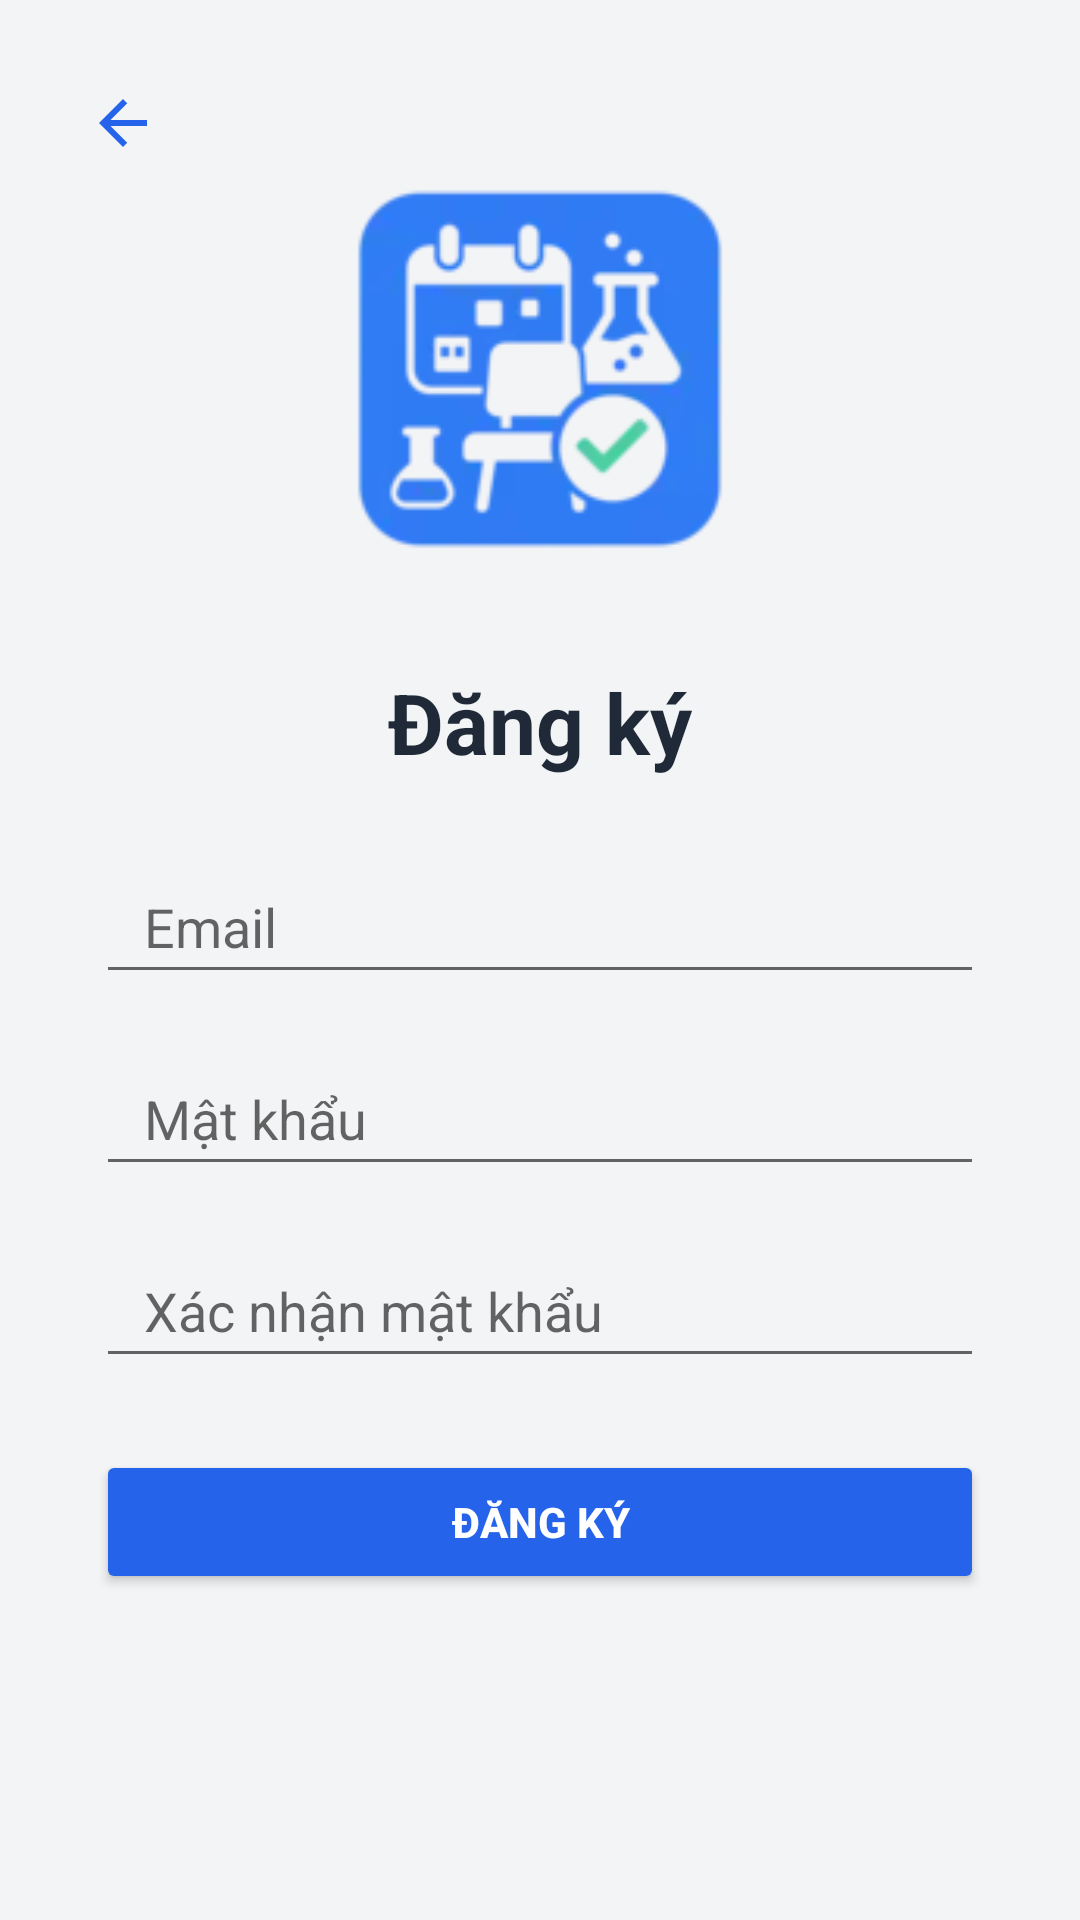

Icon click points for this 1080*1920 phone screenshot, format [x,y]:
Quay lại đăng nhập: [123,123]
